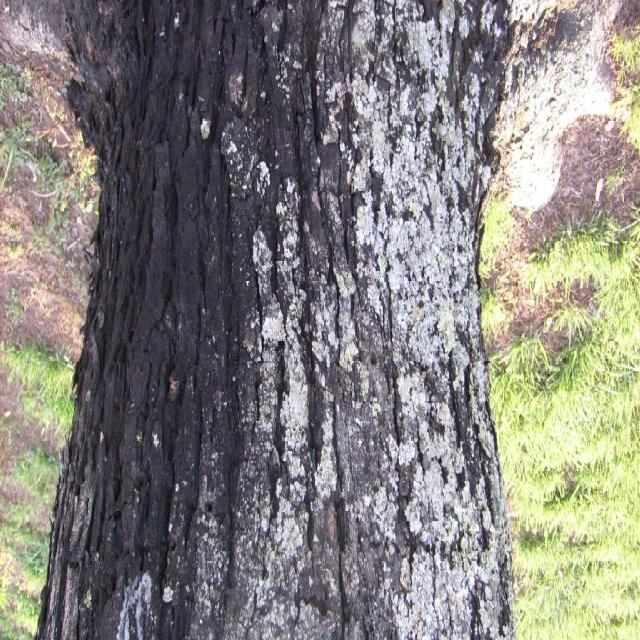Sooty Mold: (34, 0, 518, 638)
